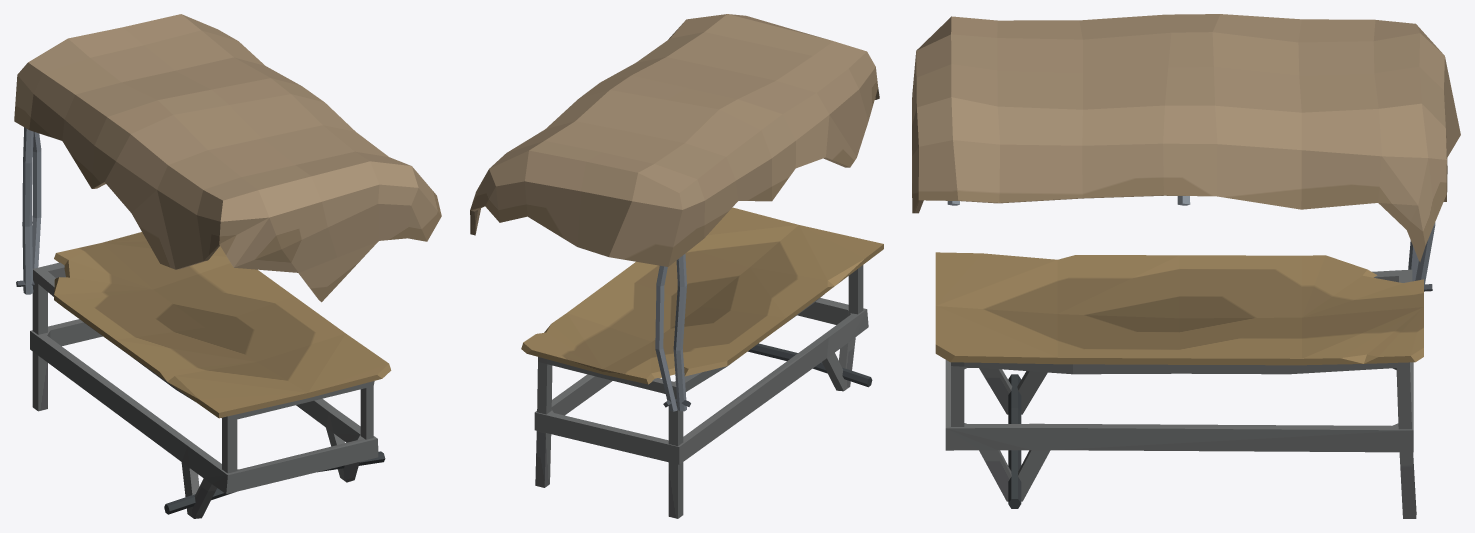
Rendered from SM_Prop_Cart_Stall_01.glb.
The picture shows the model from 3 angles, left to right: view 1: azimuth 30°, elevation 25°; view 2: azimuth 150°, elevation 25°; view 3: azimuth 270°, elevation 25°; orthographic projection. The views are drawn at different scales.
Visible parts, largest first — view 1: SM_Prop_Cart_Stall_01; view 2: SM_Prop_Cart_Stall_01; view 3: SM_Prop_Cart_Stall_01.
Boxes of the visible parts, box(x1,y1,x2,y2) form: SM_Prop_Cart_Stall_01: box(14, 14, 441, 518); SM_Prop_Cart_Stall_01: box(470, 14, 883, 518); SM_Prop_Cart_Stall_01: box(912, 14, 1460, 518).
Size of the model in its own units: 1.68 by 2.32 by 2.72.
1 material, 1 textured.
